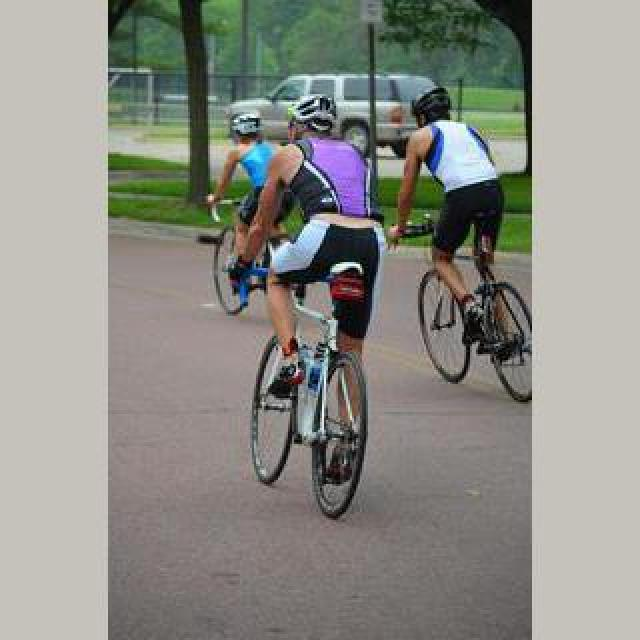Bus-Bike: (234, 58, 426, 146)
MC-Bike: (240, 114, 388, 388), (388, 84, 504, 344), (206, 108, 278, 314)
Person: (244, 272, 372, 518), (394, 222, 532, 406)
